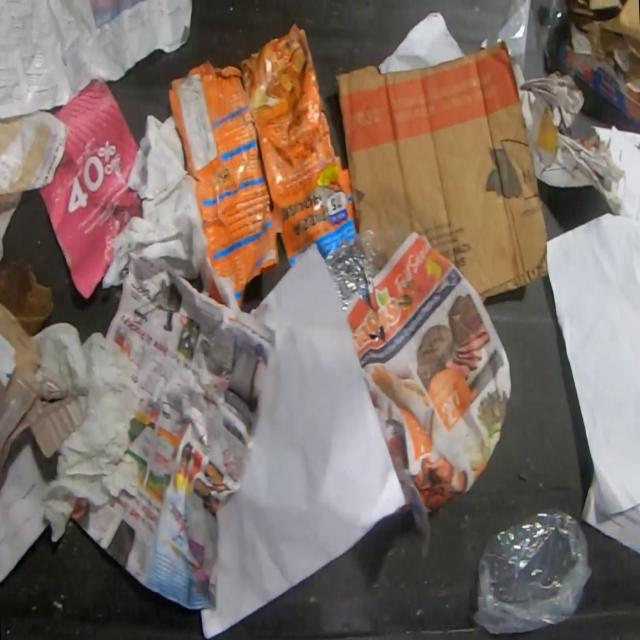cardboard: (335, 40, 549, 304), (0, 302, 91, 482), (569, 0, 640, 85), (0, 256, 55, 336)
soft_plastic: (167, 22, 358, 313), (472, 508, 594, 636), (324, 220, 407, 316), (495, 0, 576, 81)
